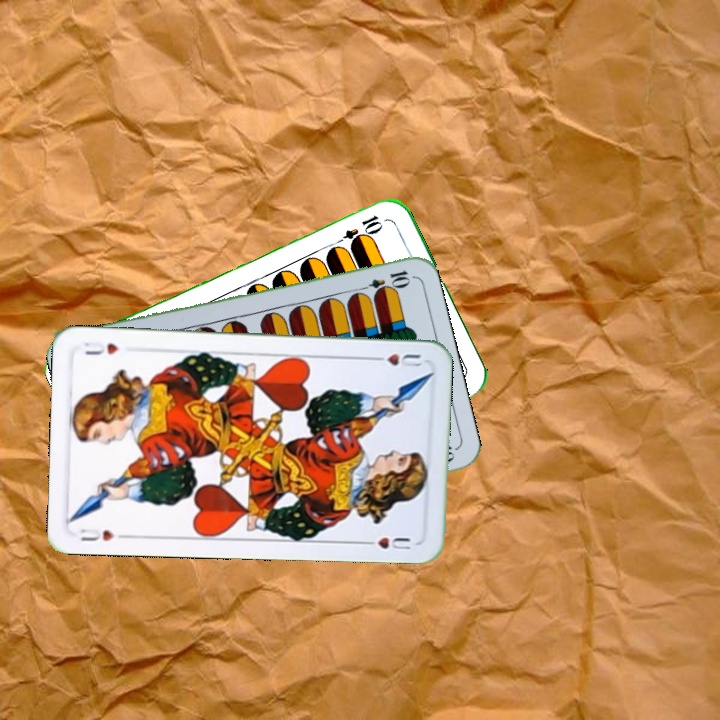E10: (331, 210, 385, 250), (354, 266, 413, 296)
HU: (367, 350, 424, 369), (77, 525, 117, 544)
